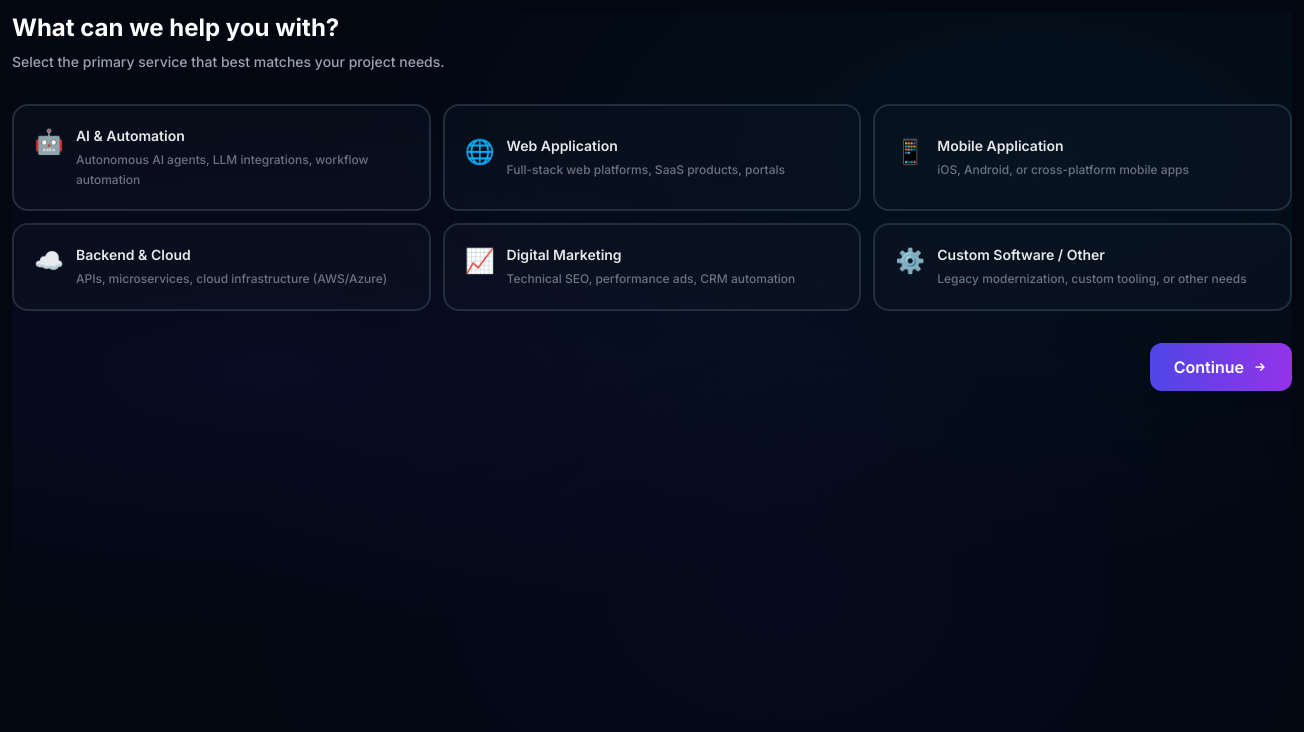
it: Step1Service › shows validation error when submitting without selection
What coordinates should you click on to do the following:
click the button "Continue"
I would click on:
 (1221, 366)
Its box is [1150,342,1292,390].
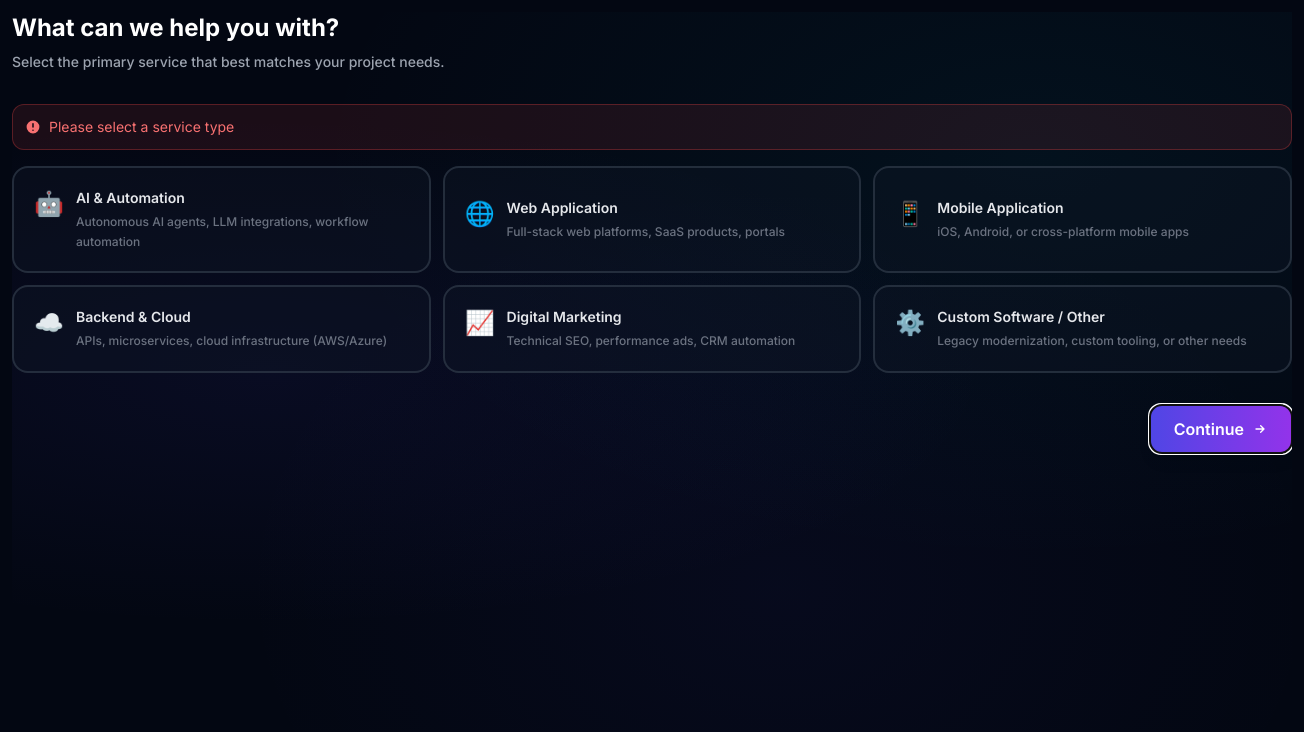
Check: the message "Please select a service type" is shown, box [12,104,1292,150]
